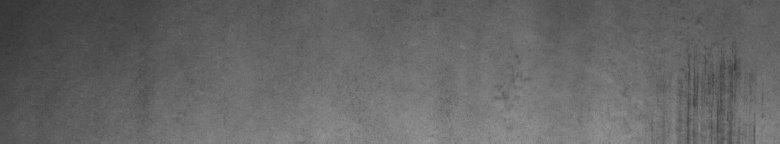ka: (672, 17, 755, 136)
